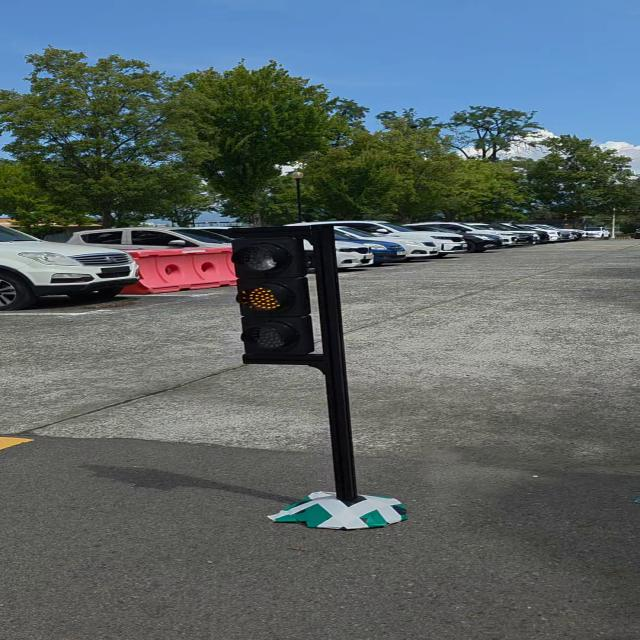yellow: (229, 231, 319, 362)
